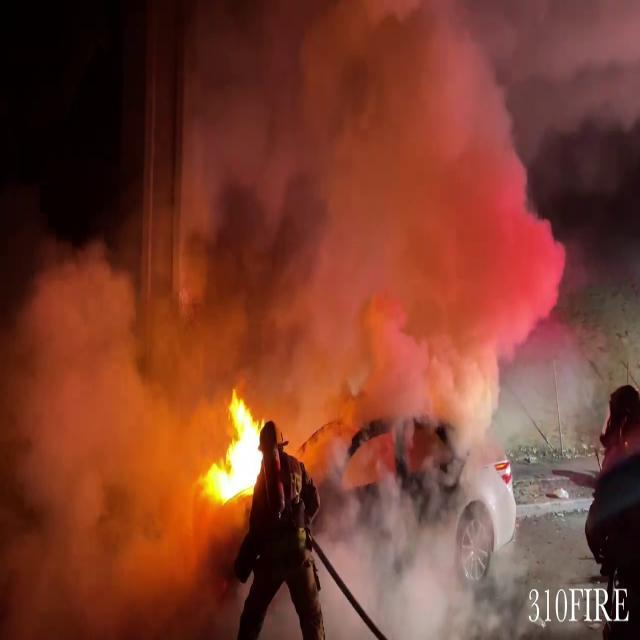Fire: (200, 390, 270, 512)
Smoke: (0, 167, 276, 632)
